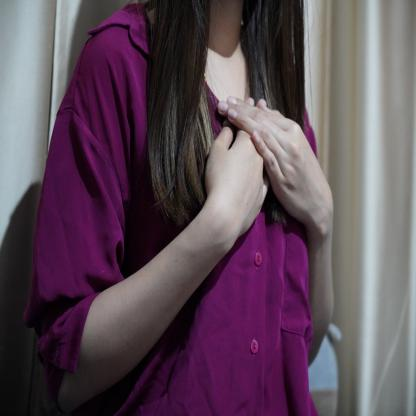Grieve: (179, 80, 339, 289)
